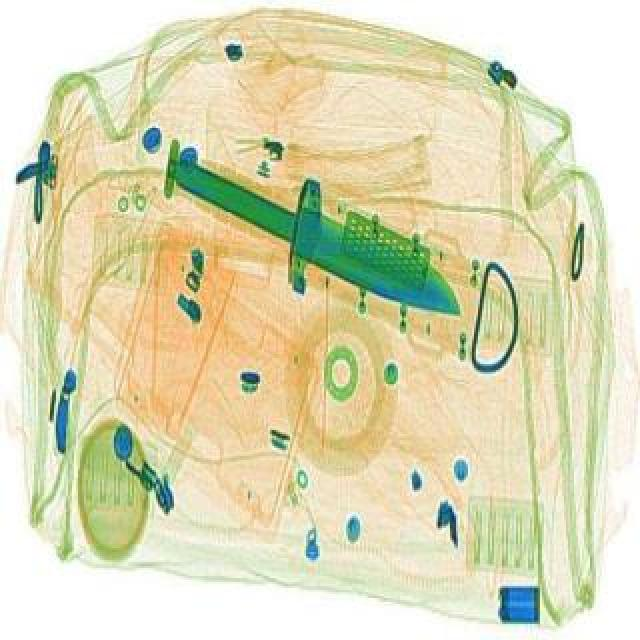knife: (124, 112, 490, 366)
